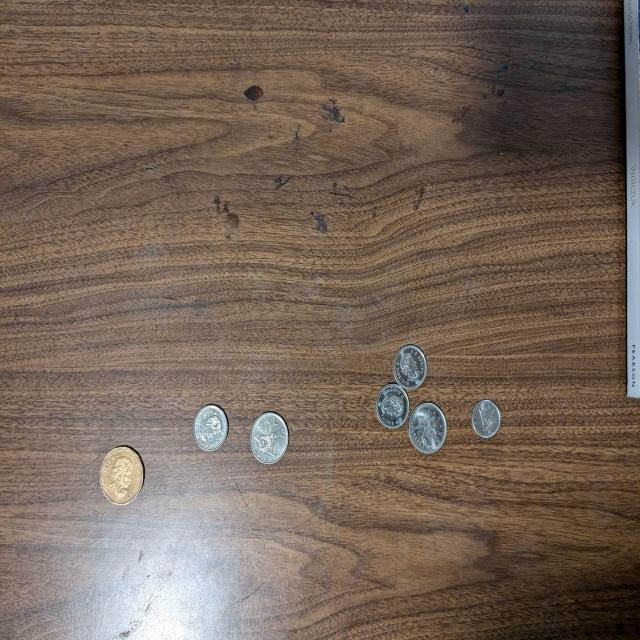dime: (471, 399, 502, 438)
loonie: (100, 446, 146, 505)
nickel: (393, 344, 428, 391), (194, 406, 229, 452), (376, 382, 410, 429)
quarter: (249, 412, 290, 464), (408, 402, 447, 456)
